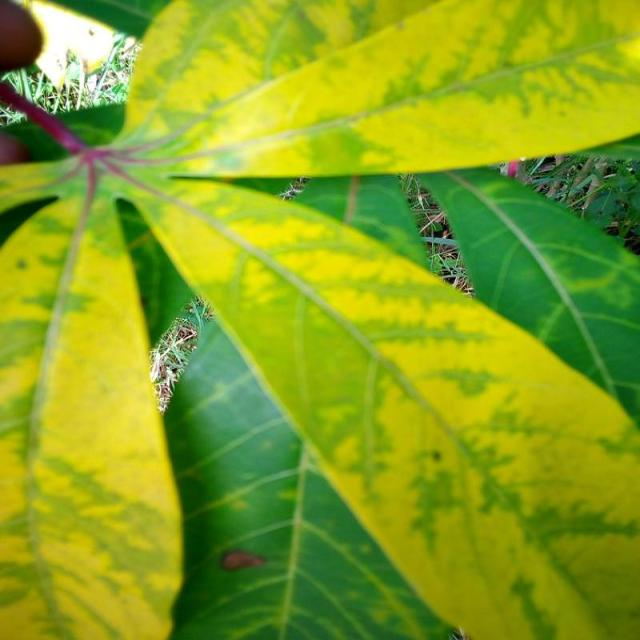cassava leaf: (0, 0, 638, 638), (120, 0, 638, 179)
